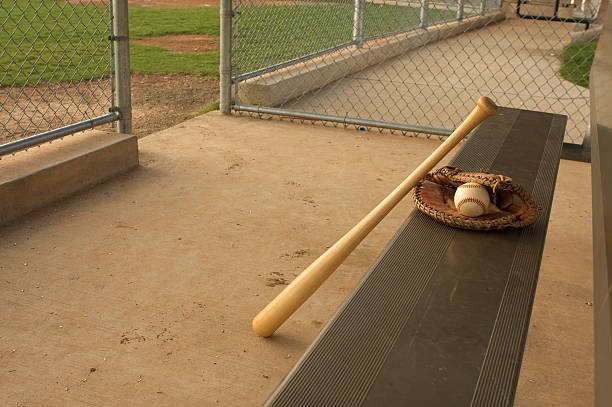bita: (244, 94, 494, 338)
